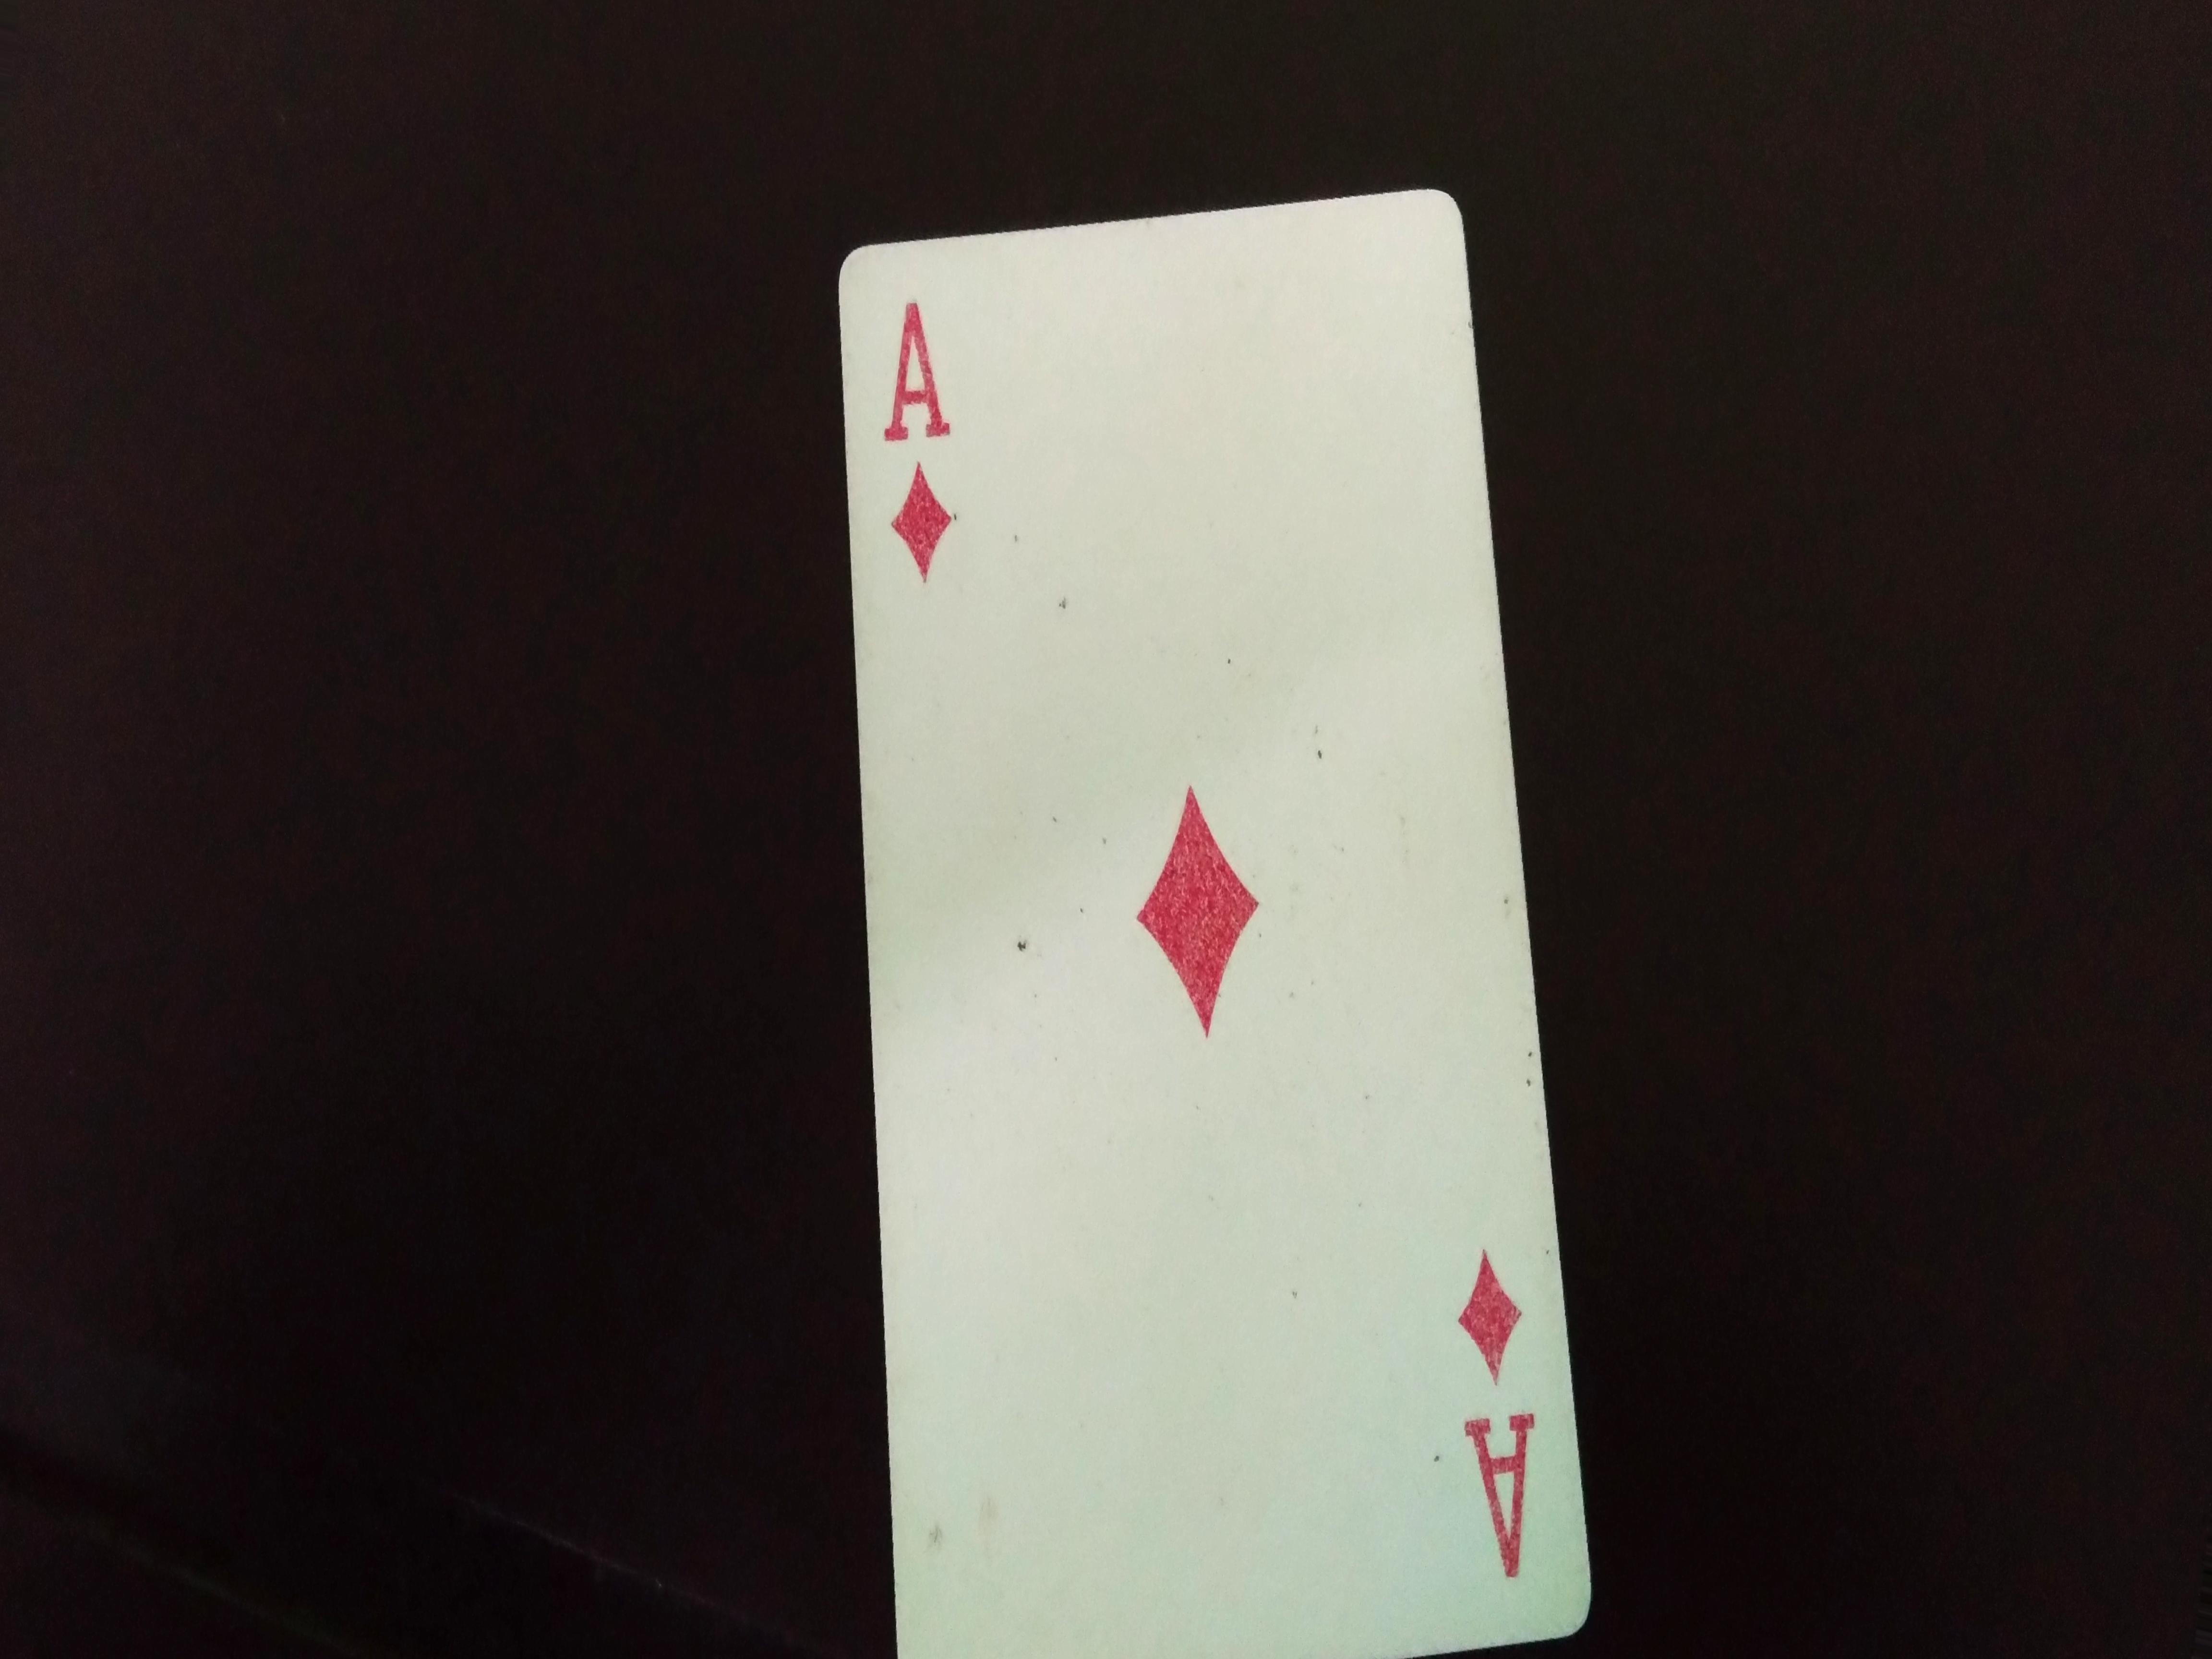AD: (881, 282, 970, 575)
